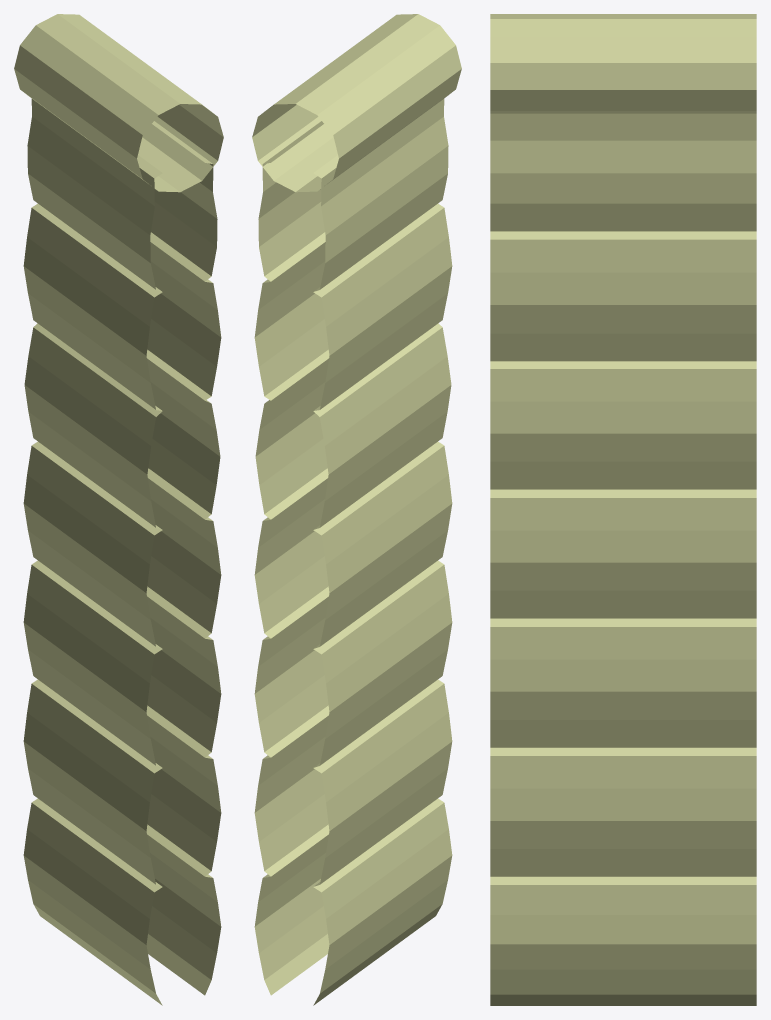
Rendered from Afschermingswand_LOD0.fbx.
3 views of the same model, side by side, from view 1: azimuth 30°, elevation 25°; view 2: azimuth 150°, elevation 25°; view 3: azimuth 270°, elevation 25° (orthographic). The views are drawn at different scales.
Parts seen in each view (by area): view 1: Afschermingswand_LOD0; view 2: Afschermingswand_LOD0; view 3: Afschermingswand_LOD0.
Part boxes in pixels (<box>): Afschermingswand_LOD0: <box>14,14,223,1005</box>; Afschermingswand_LOD0: <box>252,14,461,1005</box>; Afschermingswand_LOD0: <box>490,14,756,1005</box>.
Size of the model in its own units: 0.8181 by 8.07 by 2.
